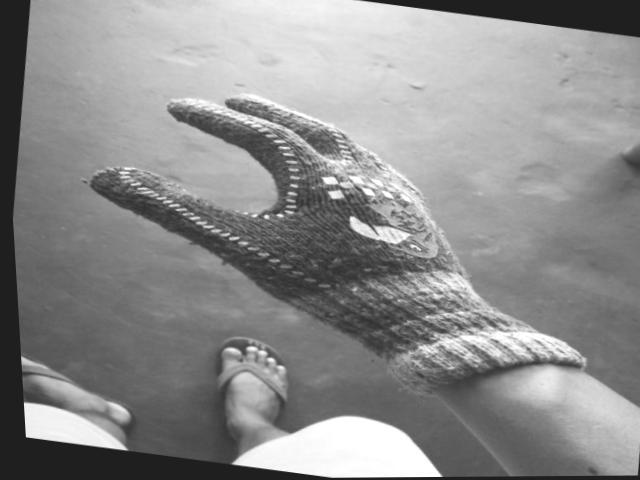Hand-in-Glove: (34, 41, 632, 420)
